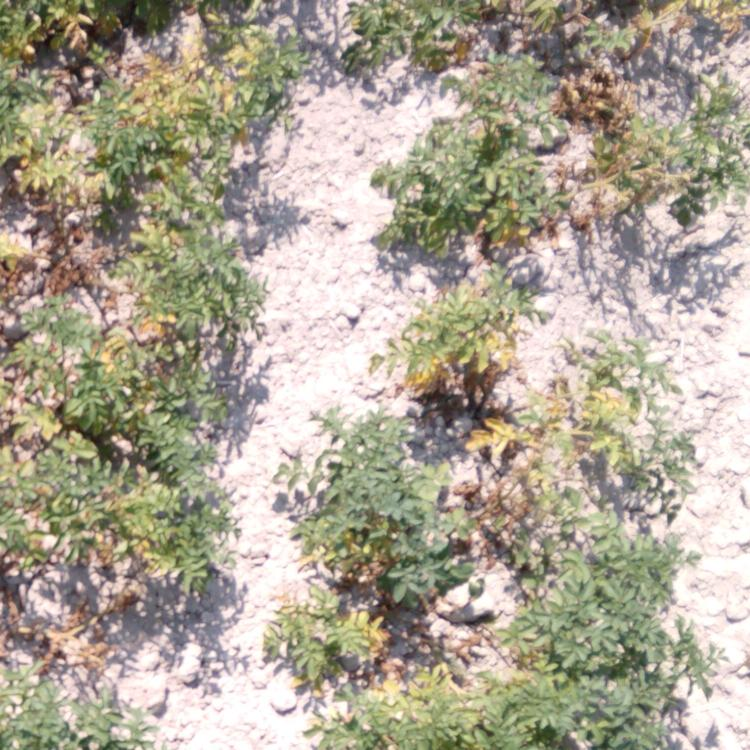healthy: (571, 542, 703, 750), (306, 408, 442, 533), (487, 539, 570, 629)
stressed: (1, 1, 234, 229), (266, 528, 443, 750), (1, 224, 263, 346), (1, 455, 211, 605), (446, 406, 690, 533), (548, 71, 749, 217), (1, 342, 229, 461), (382, 121, 546, 262), (407, 264, 538, 403), (454, 632, 568, 750), (1, 668, 162, 750), (551, 1, 746, 67), (537, 328, 675, 407), (337, 1, 462, 78), (466, 1, 545, 119), (238, 16, 297, 143), (29, 606, 114, 678)
